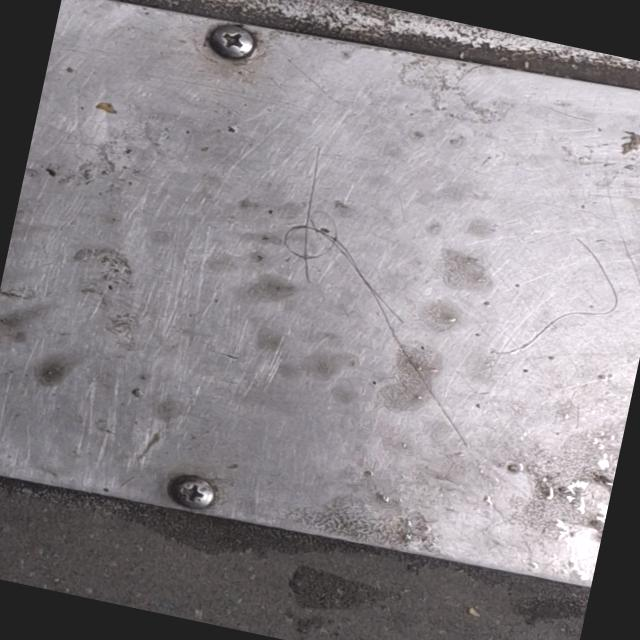Phillips: (192, 13, 262, 69), (162, 471, 222, 514)
